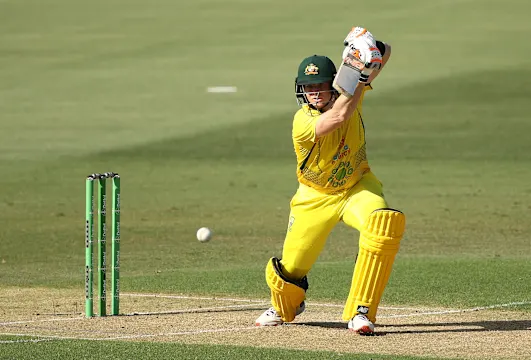Defence: (103, 0, 466, 360)
